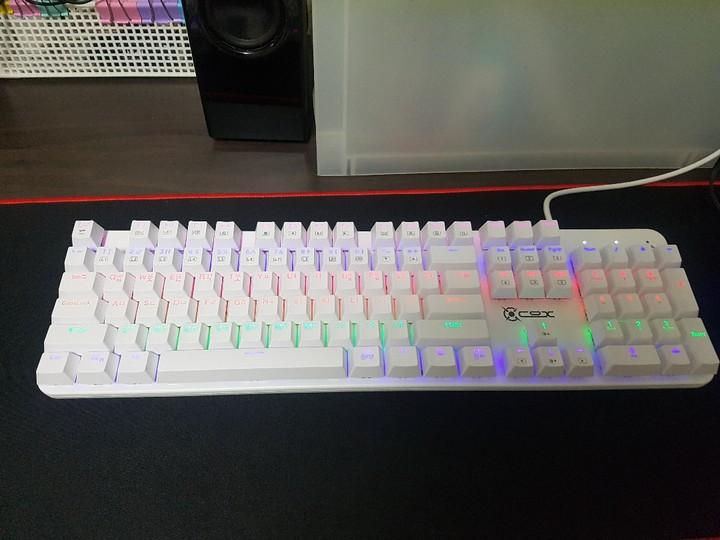keyboard: (35, 217, 718, 398)
